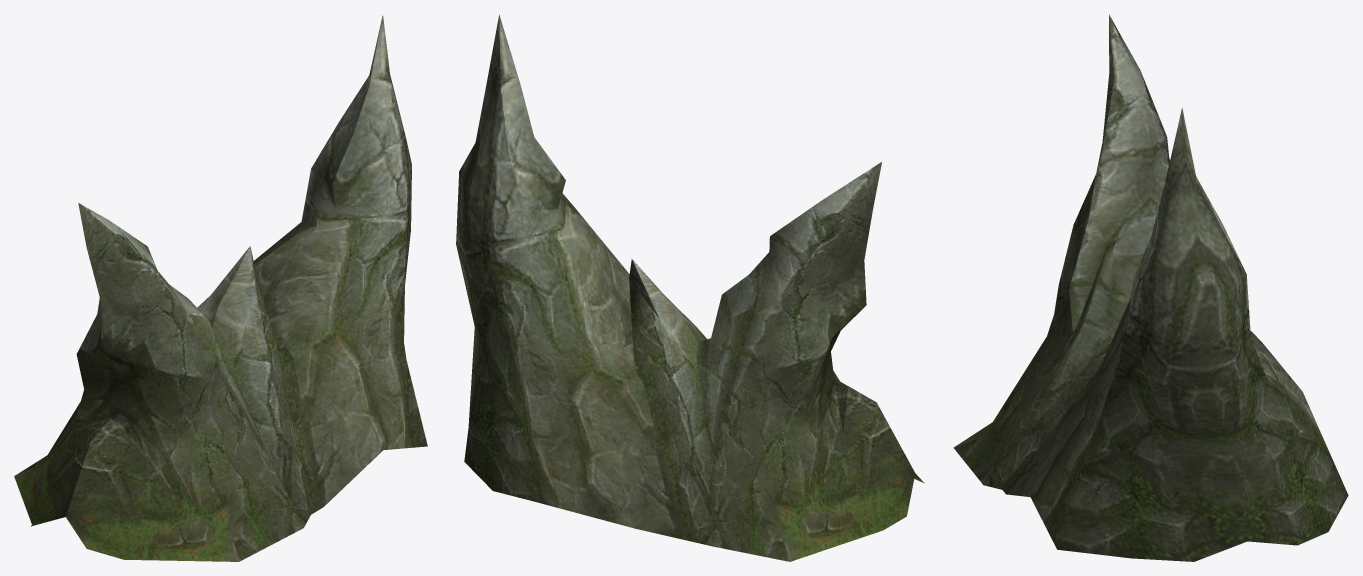
The model's file is 3004_Item_shitou_6.FBX.
3 views of the same model, side by side, from view 1: azimuth 30°, elevation 25°; view 2: azimuth 150°, elevation 25°; view 3: azimuth 270°, elevation 25° (orthographic). The views are drawn at different scales.
Parts seen in each view (by area): view 1: 3004_Item_shitou_6; view 2: 3004_Item_shitou_6; view 3: 3004_Item_shitou_6.
Boxes of the visible parts, x1,y1,x2,y2 form: 3004_Item_shitou_6: [14, 15, 427, 561]; 3004_Item_shitou_6: [456, 14, 924, 561]; 3004_Item_shitou_6: [953, 14, 1348, 561].
Bounding box in the file's own units: 355 × 349 × 262.
